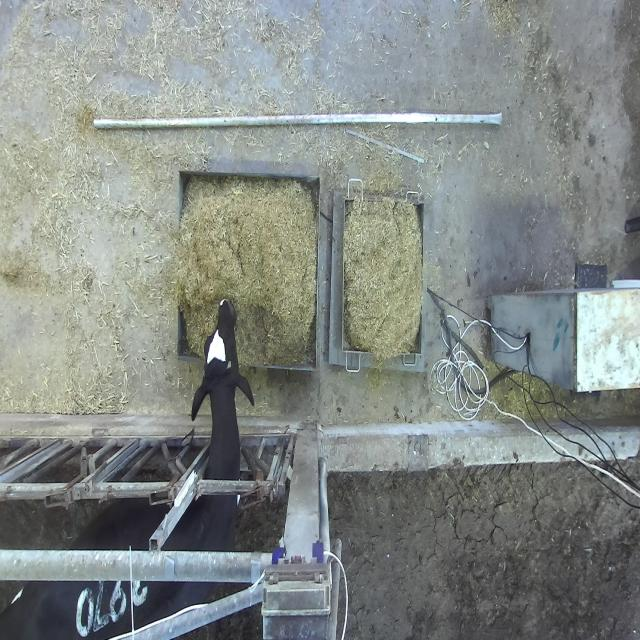cow: (189, 298, 256, 424)
